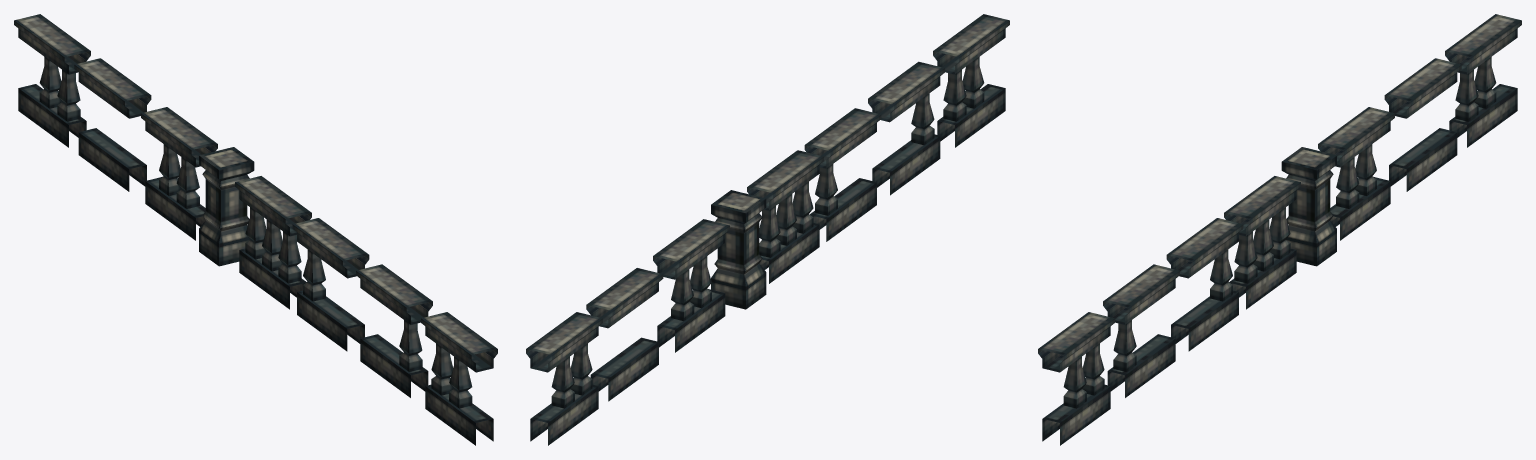
File: EnvMdrMD_Daiseidou_A_Fence_A_End_A.FBX
The picture shows the model from 3 angles, left to right: view 1: azimuth 30°, elevation 25°; view 2: azimuth 150°, elevation 25°; view 3: azimuth 330°, elevation 25°; orthographic projection.
Parts seen in each view (by area): view 1: EnvMdrMD_Daiseidou_A_Fence_A_Loop_A, EnvMdrMD_Daiseidou_A_Fence_A_End_A, EnvMdrMD_Daiseidou_A_Fence_A_Start_A, EnvMdrMD_Daiseidou_A_Fence_A_Loop_B, EnvMdrMD_Daiseidou_A_Fence_A_Start_B, EnvMdrMD_Daiseidou_A_Fence_A_End_B, EnvMdrMD_Daiseidou_A_Fence_A_Post_A, EnvMdrMD_Daiseidou_A_Fence_A_Parallel_A; view 2: EnvMdrMD_Daiseidou_A_Fence_A_Loop_A, EnvMdrMD_Daiseidou_A_Fence_A_Start_A, EnvMdrMD_Daiseidou_A_Fence_A_Loop_B, EnvMdrMD_Daiseidou_A_Fence_A_End_A, EnvMdrMD_Daiseidou_A_Fence_A_Start_B, EnvMdrMD_Daiseidou_A_Fence_A_End_B, EnvMdrMD_Daiseidou_A_Fence_A_Post_A, EnvMdrMD_Daiseidou_A_Fence_A_Parallel_A; view 3: EnvMdrMD_Daiseidou_A_Fence_A_Loop_A, EnvMdrMD_Daiseidou_A_Fence_A_End_A, EnvMdrMD_Daiseidou_A_Fence_A_Start_A, EnvMdrMD_Daiseidou_A_Fence_A_Loop_B, EnvMdrMD_Daiseidou_A_Fence_A_Start_B, EnvMdrMD_Daiseidou_A_Fence_A_End_B, EnvMdrMD_Daiseidou_A_Fence_A_Post_A, EnvMdrMD_Daiseidou_A_Fence_A_Parallel_A.
Boxes of the visible parts, x1,y1,x2,y2 form: EnvMdrMD_Daiseidou_A_Fence_A_Loop_A: (235, 176, 311, 309); EnvMdrMD_Daiseidou_A_Fence_A_End_A: (421, 312, 497, 445); EnvMdrMD_Daiseidou_A_Fence_A_Start_A: (14, 14, 90, 147); EnvMdrMD_Daiseidou_A_Fence_A_Loop_B: (141, 107, 217, 240); EnvMdrMD_Daiseidou_A_Fence_A_Start_B: (356, 264, 432, 397); EnvMdrMD_Daiseidou_A_Fence_A_End_B: (292, 218, 369, 351); EnvMdrMD_Daiseidou_A_Fence_A_Post_A: (199, 147, 254, 266); EnvMdrMD_Daiseidou_A_Fence_A_Parallel_A: (74, 58, 151, 191); EnvMdrMD_Daiseidou_A_Fence_A_Loop_A: (747, 150, 823, 283); EnvMdrMD_Daiseidou_A_Fence_A_Start_A: (526, 312, 602, 445); EnvMdrMD_Daiseidou_A_Fence_A_Loop_B: (653, 219, 729, 352); EnvMdrMD_Daiseidou_A_Fence_A_End_A: (933, 14, 1009, 147); EnvMdrMD_Daiseidou_A_Fence_A_Start_B: (868, 61, 944, 195); EnvMdrMD_Daiseidou_A_Fence_A_End_B: (804, 108, 881, 241); EnvMdrMD_Daiseidou_A_Fence_A_Post_A: (711, 190, 766, 309); EnvMdrMD_Daiseidou_A_Fence_A_Parallel_A: (586, 268, 663, 401); EnvMdrMD_Daiseidou_A_Fence_A_Loop_A: (1224, 176, 1300, 309); EnvMdrMD_Daiseidou_A_Fence_A_End_A: (1038, 312, 1114, 445); EnvMdrMD_Daiseidou_A_Fence_A_Start_A: (1445, 14, 1521, 147); EnvMdrMD_Daiseidou_A_Fence_A_Loop_B: (1318, 107, 1394, 240); EnvMdrMD_Daiseidou_A_Fence_A_Start_B: (1103, 264, 1179, 397); EnvMdrMD_Daiseidou_A_Fence_A_End_B: (1166, 218, 1243, 351); EnvMdrMD_Daiseidou_A_Fence_A_Post_A: (1281, 147, 1336, 266); EnvMdrMD_Daiseidou_A_Fence_A_Parallel_A: (1384, 58, 1461, 191).
Size of the model in its own units: 40 by 105 by 904.
Materials: 1 (1 with a texture image).
